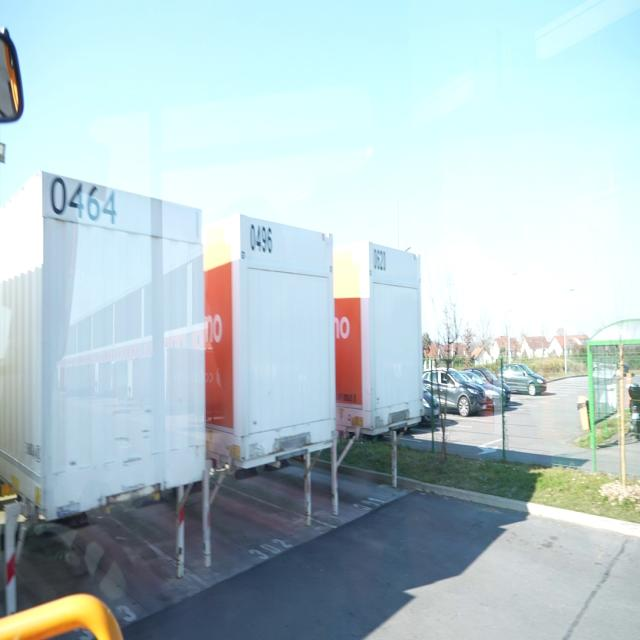Code: (49, 170, 120, 235), (245, 215, 279, 259), (367, 239, 393, 278)
